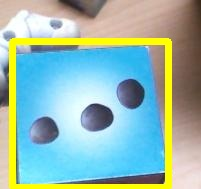Blue3: (12, 41, 168, 187)
